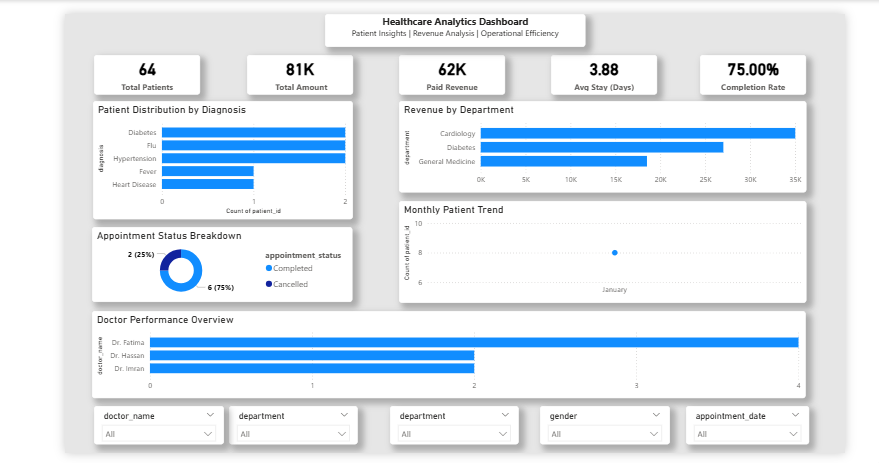

The page's visual inventory and layout, read from the dashboard file:
{"tool":"powerbi","page":{"name":"Healthcare Analytics Dashboard","canvas":[1280,720],"ordinal":0},"visuals":[{"type":"card","fields":{"Values":["Sum(healthcareanalyticsdb.Total Patients)"]},"box":[47.8,67.8,174.2,64.8],"z":0},{"type":"card","fields":{"Values":["healthcareanalyticsdb.Completion Rate"]},"box":[1040.7,67.8,174.2,64.8],"z":1000},{"type":"card","fields":{"Values":["Sum(healthcareanalyticsdb.total_amount)"]},"box":[297.6,67.8,174.2,64.8],"z":2000},{"type":"card","fields":{"Values":["healthcareanalyticsdb.Paid Revenue"]},"box":[547.3,67.8,174.2,64.8],"z":3000},{"type":"card","fields":{"Values":["healthcareanalyticsdb.Avg Stay (Days)"]},"box":[797.1,67.8,174.2,64.8],"z":4000},{"type":"barChart","title":"Patient Distribution by Diagnosis","fields":{"Y":["CountNonNull(healthcareanalyticsdb.patient_id)"],"Category":["healthcareanalyticsdb.diagnosis"]},"box":[46.3,143.4,425.5,194.3],"z":5000},{"type":"barChart","title":"Revenue by Department","fields":{"Category":["healthcareanalyticsdb.department"],"Y":["Sum(healthcareanalyticsdb.total_amount)"]},"box":[547.3,143.4,667.6,149.6],"z":6000},{"type":"donutChart","title":"Appointment Status Breakdown","fields":{"Category":["healthcareanalyticsdb.appointment_status"],"Y":["CountNonNull(healthcareanalyticsdb.appointment_status)"]},"box":[44.7,350,427.1,123.3],"z":7000},{"type":"lineChart","title":"Monthly Patient Trend","fields":{"Category":["healthcareanalyticsdb.admission_date.Variation.Date Hierarchy.Month"],"Y":["CountNonNull(healthcareanalyticsdb.patient_id)"]},"box":[547.3,306.8,667.6,166.5],"z":8000},{"type":"clusteredBarChart","title":"Doctor Performance Overview","fields":{"Category":["healthcareanalyticsdb.doctor_name"],"Y":["CountNonNull(healthcareanalyticsdb.patient_id)"]},"box":[44.7,487.2,1170.2,143.4],"z":9000},{"type":"slicer","fields":{"Values":["healthcareanalyticsdb.department"]},"box":[268.3,642.9,211.2,63.2],"z":10000},{"type":"slicer","fields":{"Values":["healthcareanalyticsdb.department"]},"box":[533.4,642.9,211.2,63.2],"z":11000},{"type":"slicer","fields":{"Values":["healthcareanalyticsdb.gender"]},"box":[778.6,642.9,212.8,63.2],"z":12000},{"type":"slicer","fields":{"Values":["healthcareanalyticsdb.doctor_name"]},"box":[47.8,642.9,212.8,63.2],"z":13000},{"type":"slicer","fields":{"Values":["healthcareanalyticsdb.appointment_date"]},"box":[1017.6,642.9,202,63.2],"z":14000},{"type":"textbox","box":[425.5,0,427.1,54],"z":15000}]}

Visuals, with their boxes in screenshot pixels (x1, y1, x2, y2):
card - Sum(healthcareanalyticsdb.Total Patients): x1=93, y1=53, x2=200, y2=92
card - healthcareanalyticsdb.Completion Rate: x1=700, y1=53, x2=806, y2=92
card - Sum(healthcareanalyticsdb.total_amount): x1=246, y1=53, x2=352, y2=92
card - healthcareanalyticsdb.Paid Revenue: x1=398, y1=53, x2=505, y2=92
card - healthcareanalyticsdb.Avg Stay (Days): x1=551, y1=53, x2=657, y2=92
"Patient Distribution by Diagnosis" barChart: x1=92, y1=99, x2=352, y2=218
"Revenue by Department" barChart: x1=398, y1=99, x2=806, y2=190
"Appointment Status Breakdown" donutChart: x1=91, y1=225, x2=352, y2=301
"Monthly Patient Trend" lineChart: x1=398, y1=199, x2=806, y2=301
"Doctor Performance Overview" clusteredBarChart: x1=91, y1=309, x2=806, y2=397
slicer - healthcareanalyticsdb.department: x1=228, y1=404, x2=357, y2=443
slicer - healthcareanalyticsdb.department: x1=390, y1=404, x2=519, y2=443
slicer - healthcareanalyticsdb.gender: x1=540, y1=404, x2=670, y2=443
slicer - healthcareanalyticsdb.doctor_name: x1=93, y1=404, x2=223, y2=443
slicer - healthcareanalyticsdb.appointment_date: x1=686, y1=404, x2=809, y2=443
textbox: x1=324, y1=11, x2=585, y2=44
